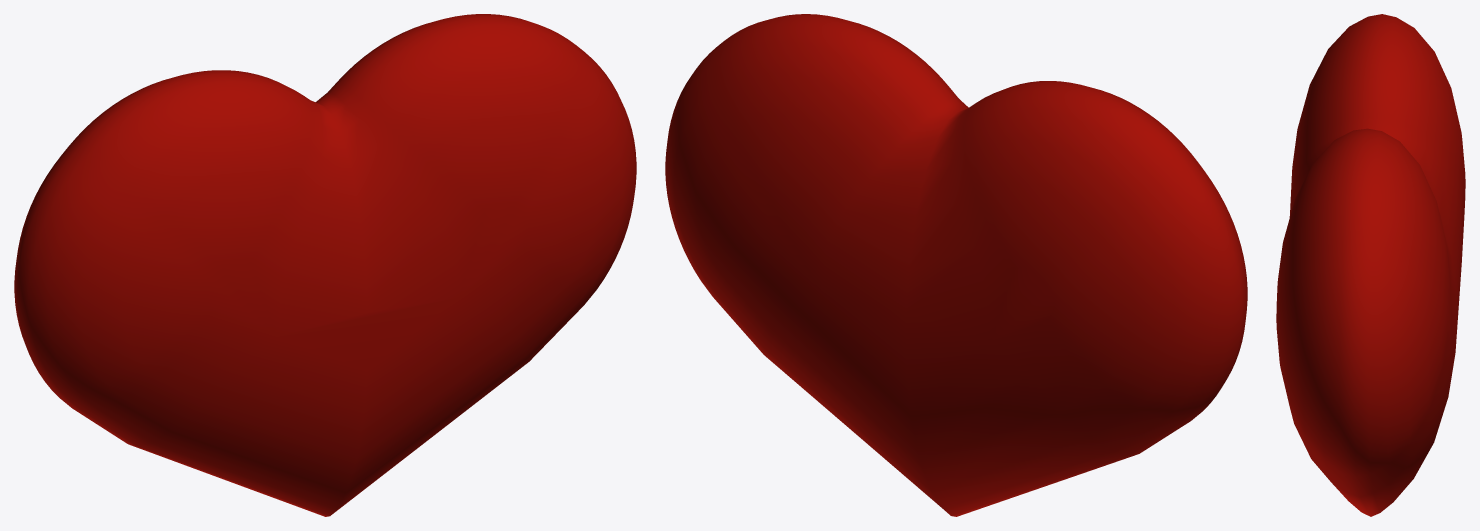
Rendered from heart.fbx.
The picture shows the model from 3 angles, left to right: view 1: azimuth 30°, elevation 25°; view 2: azimuth 150°, elevation 25°; view 3: azimuth 270°, elevation 25°; orthographic projection. The views are drawn at different scales.
Parts seen in each view (by area): view 1: Cube; view 2: Cube; view 3: Cube.
Part boxes in pixels (x1,y1,x2,y2): Cube: [14, 14, 636, 516]; Cube: [665, 14, 1247, 516]; Cube: [1276, 14, 1465, 516].
Bounding box in the file's own units: 357 × 267 × 107.
